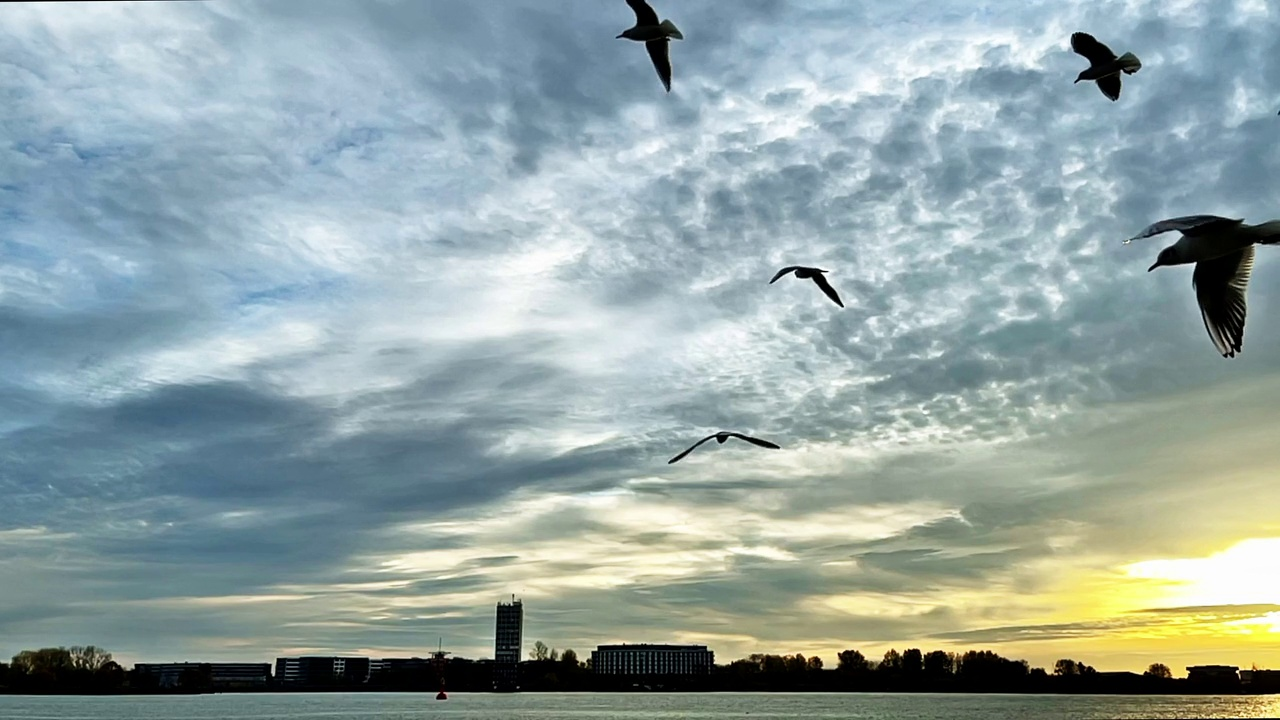bird: (1124, 215, 1280, 358), (613, 1, 684, 93), (1069, 30, 1140, 101), (667, 428, 778, 464), (769, 266, 844, 307)
